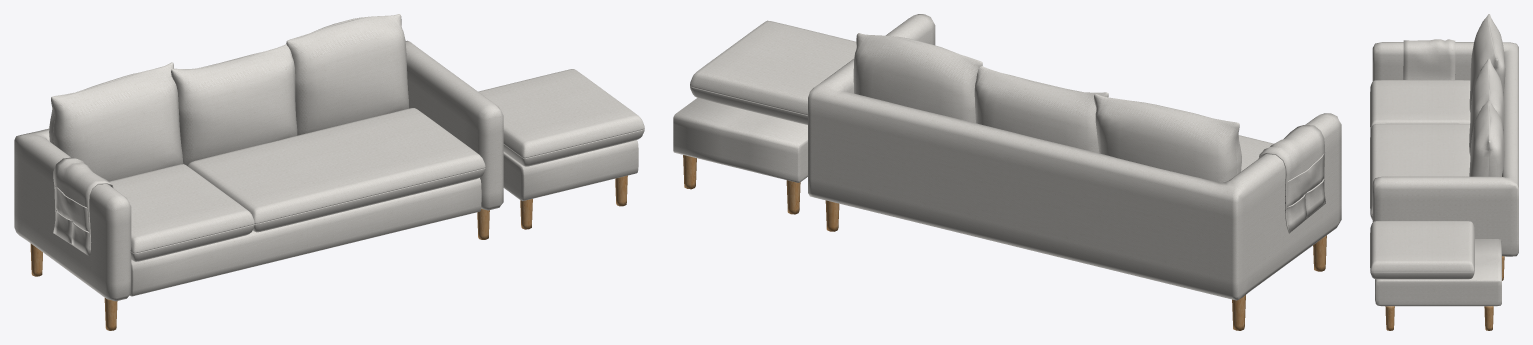
Rendered from design14.obj.
3 views of the same model, side by side, from view 1: azimuth 30°, elevation 25°; view 2: azimuth 150°, elevation 25°; view 3: azimuth 270°, elevation 25° (orthographic). The views are drawn at different scales.
Parts seen in each view (by area): view 1: Box073, Box069, Box071, Plane031, Plane033, Plane032, Box074, Box072, Box075, Plane034, Box070, Box076; view 2: Box069, Box074, Plane031, Plane033, Box075, Plane032, Plane034, Box070, Box076, Box072; view 3: Box069, Box074, Box073, Box075, Box072, Plane033, Plane034, Plane031, Plane032, Box076.
Boxes of the visible parts, x1,y1,x2,y2 form: Box073: (187, 108, 485, 232); Box069: (14, 40, 503, 301); Box071: (129, 178, 481, 296); Plane031: (49, 62, 183, 181); Plane033: (286, 14, 408, 135); Plane032: (171, 44, 297, 165); Box074: (478, 69, 644, 166); Box072: (109, 164, 254, 261); Box075: (503, 140, 638, 200); Plane034: (53, 157, 113, 256); Box070: (30, 209, 489, 330); Box076: (520, 175, 627, 229); Box069: (808, 14, 1341, 300); Box074: (690, 20, 856, 124); Plane031: (1094, 94, 1241, 182); Plane033: (853, 33, 982, 123); Box075: (673, 98, 807, 182); Plane032: (974, 66, 1108, 153); Plane034: (1258, 125, 1325, 233); Box070: (825, 200, 1326, 330); Box076: (683, 155, 800, 214); Box072: (1238, 135, 1273, 171); Box069: (1372, 42, 1518, 256); Box074: (1370, 221, 1474, 279); Box073: (1370, 123, 1470, 219); Box075: (1375, 239, 1501, 306); Box072: (1370, 80, 1470, 130); Plane033: (1469, 100, 1504, 176); Plane034: (1403, 39, 1455, 79); Plane031: (1469, 14, 1505, 113); Plane032: (1469, 58, 1504, 155); Box076: (1385, 306, 1493, 330).
Size of the model in its own units: 2398 by 783 by 774.
Materials: 2 (2 with a texture image).
